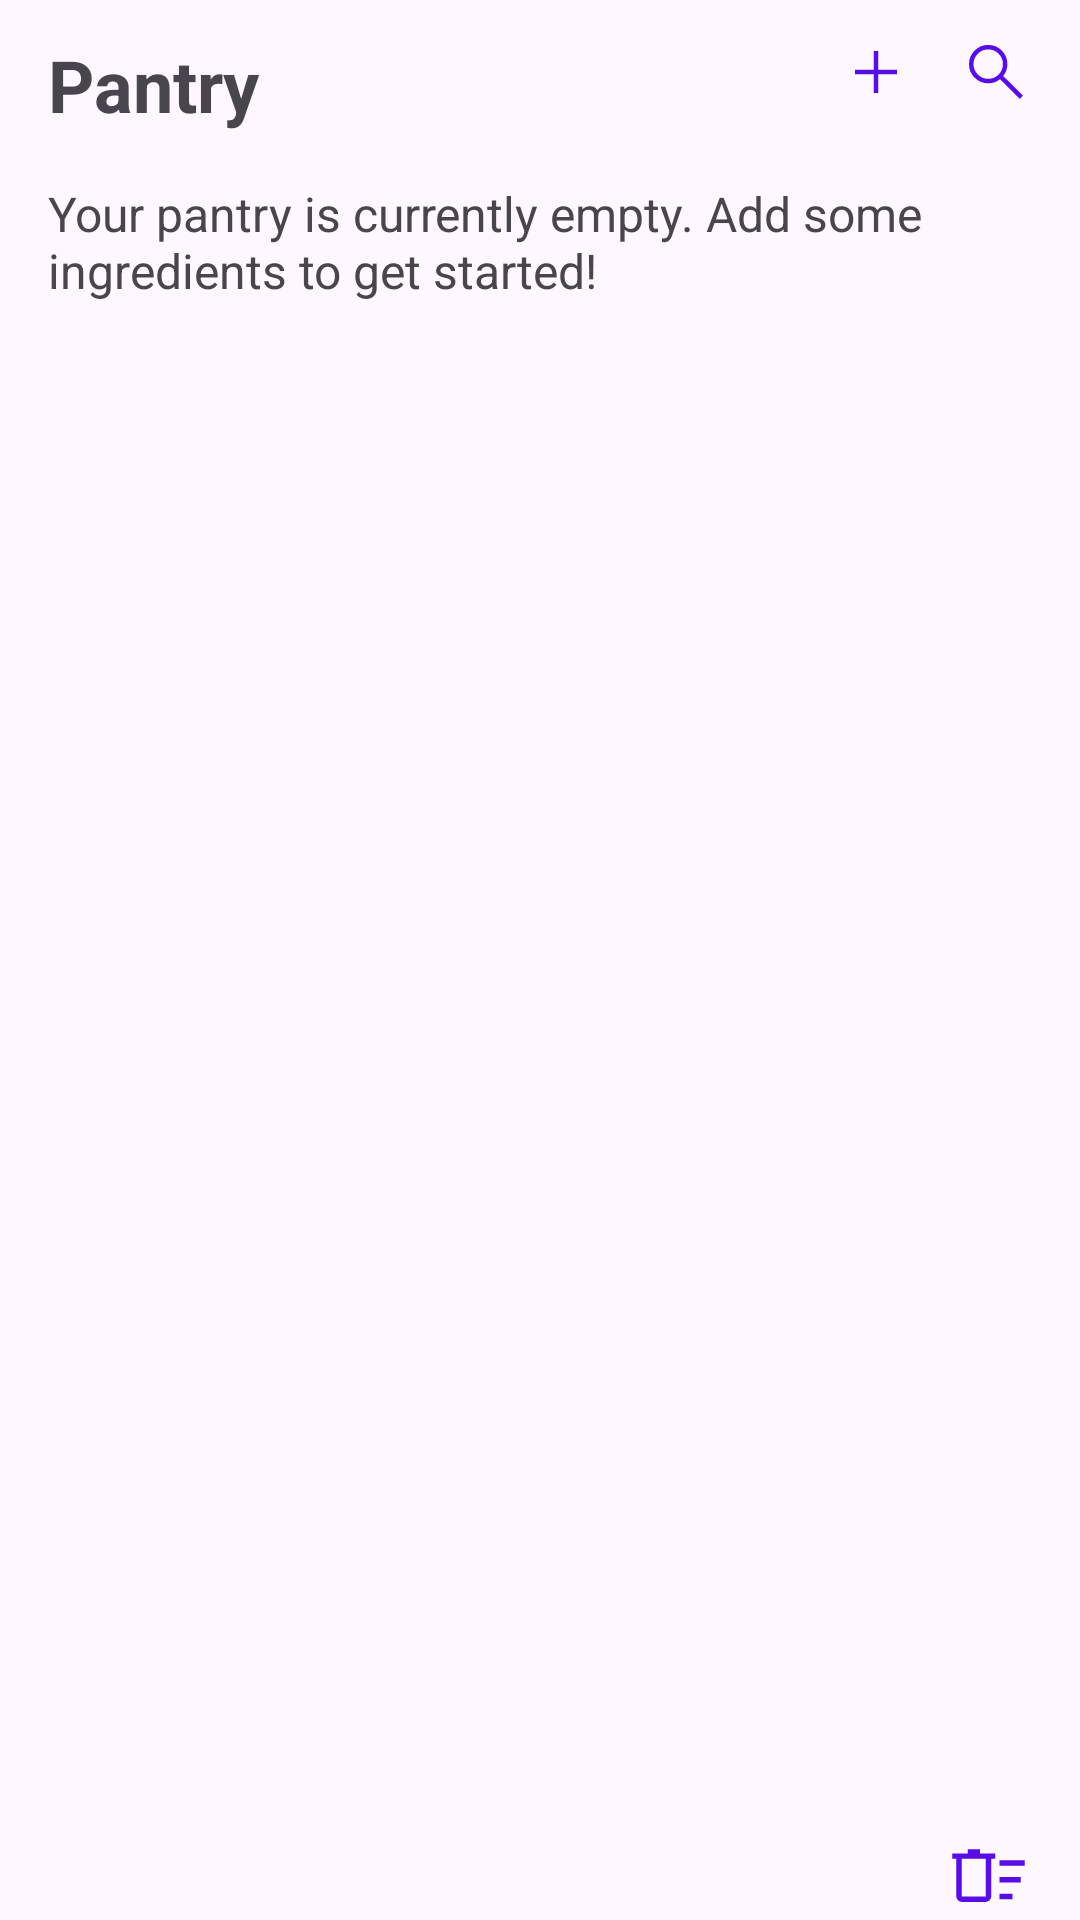

Named icons in this screenshot (1080x1920) and their centers, [x,y]:
clear: [988,1875]
Search Ingredients: [996,72]
